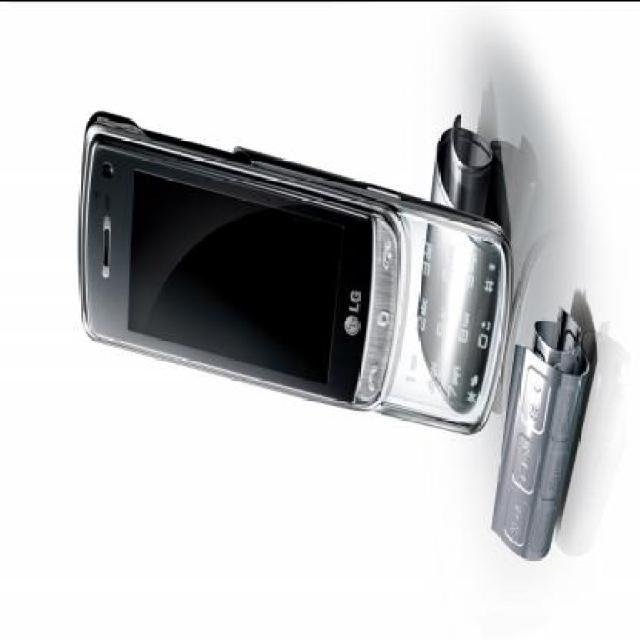phone: (80, 108, 512, 440)
